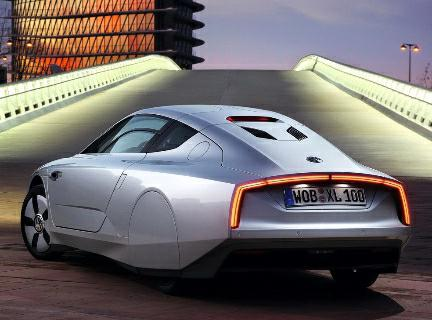大众-XL1: (15, 100, 415, 306)
